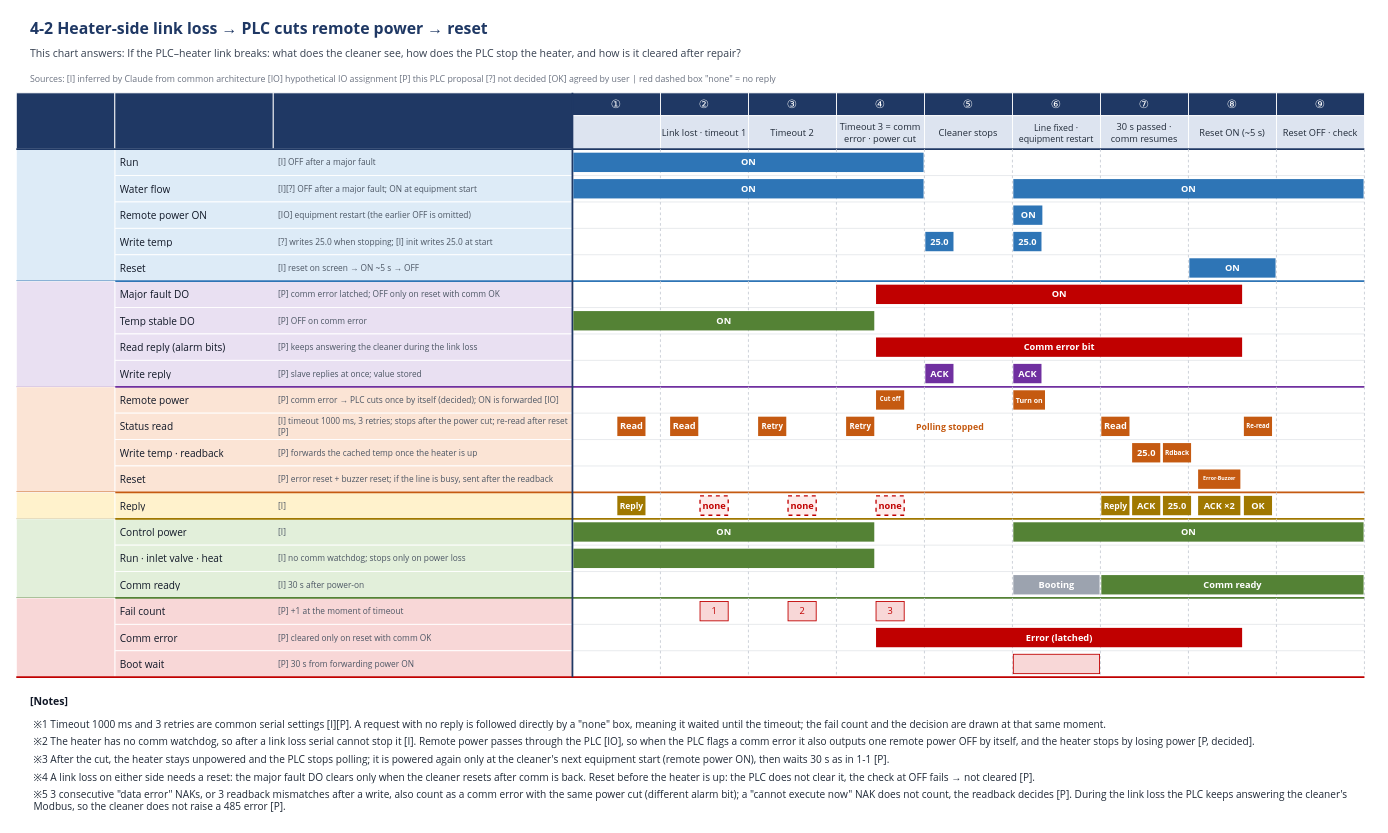
The diagram is 1388 pixels wide and 833 high, and some of its shapes have lost their labels. Here are the shapes that lost their labels. From the top down, the centre of each, then its label:
At pixel 65 120: "Group".
At pixel 193 120: "Signal".
At pixel 422 120: "Notes".
At pixel 616 132: "Supplying".
At pixel 65 214: "Cleaner → PLC".
At pixel 65 333: "PLC → cleaner".
At pixel 65 439: "PLC → heater".
At pixel 65 505: "Heater → PLC".
At pixel 65 558: "Heater status".
At pixel 723 558: "Keeps running".
At pixel 65 637: "PLC internal".
At pixel 1056 663: "Wait 30 s".
